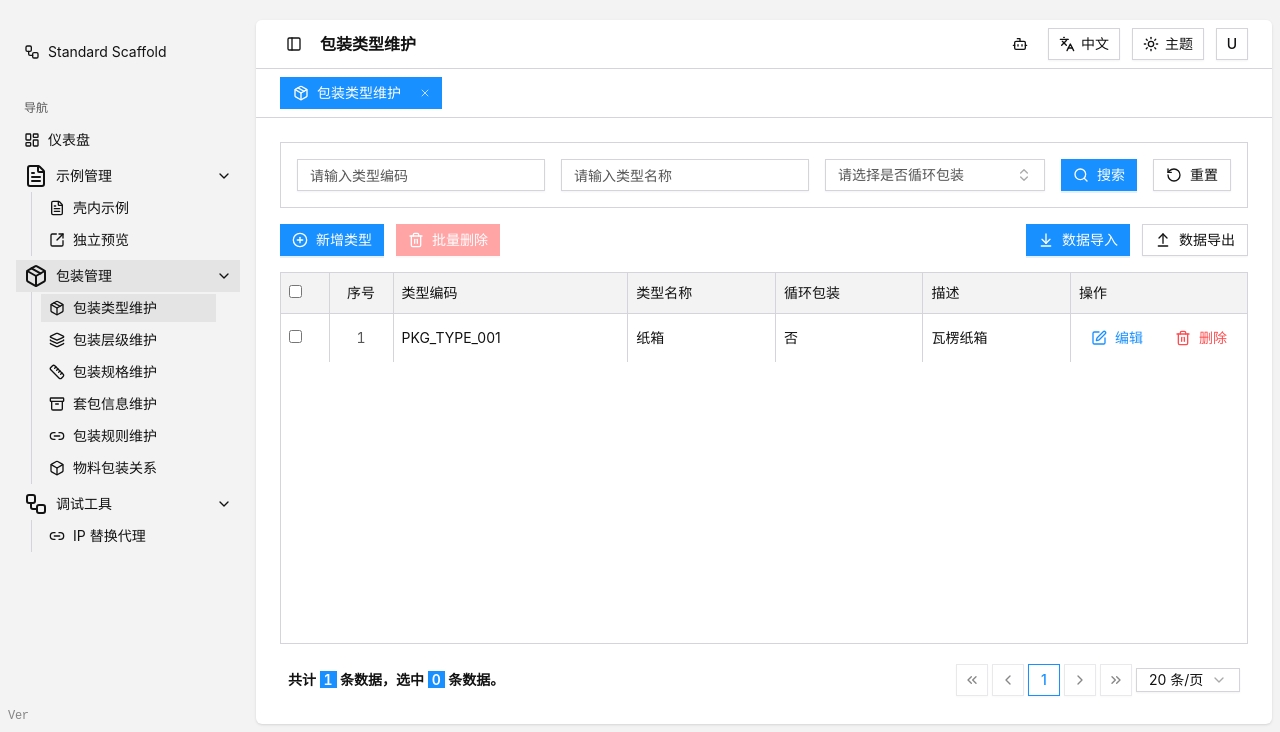
Test case: PackagingTypePage › updates the pagination selected count when a row is selected
Expected: the text "纸箱" is shown, [628, 313, 775, 362]
Expected: the element labelled "共计 1 条数据，选中 0 条数据。" is shown, [288, 670, 504, 690]
Click the checkbox named "选择 纸箱" at [296, 336], box [289, 330, 302, 342]
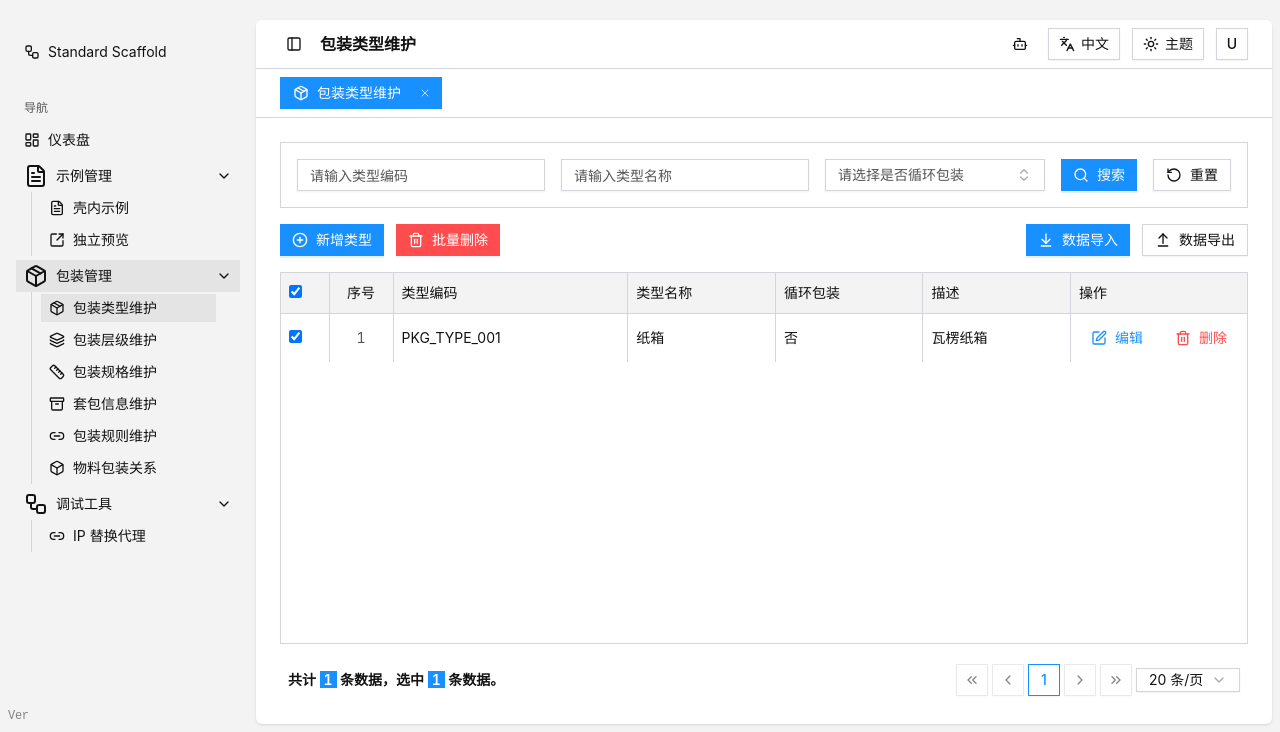
Expected: the element labelled "共计 1 条数据，选中 1 条数据。" is shown, [288, 670, 504, 690]
